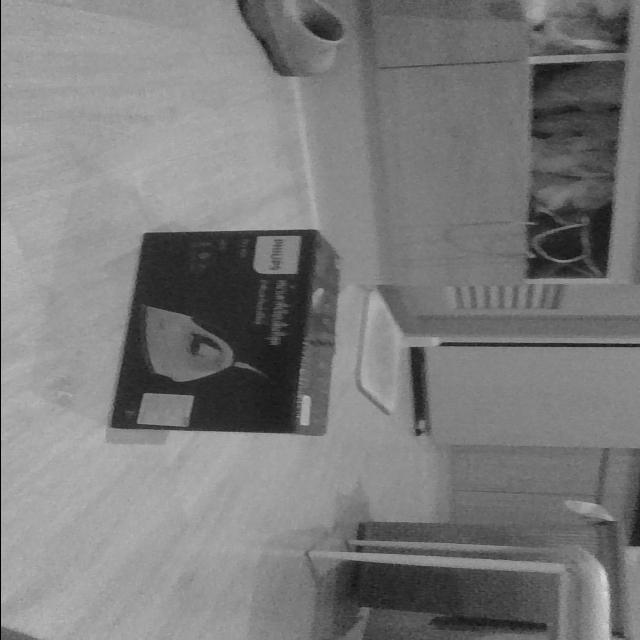IRON: (106, 226, 346, 438)
